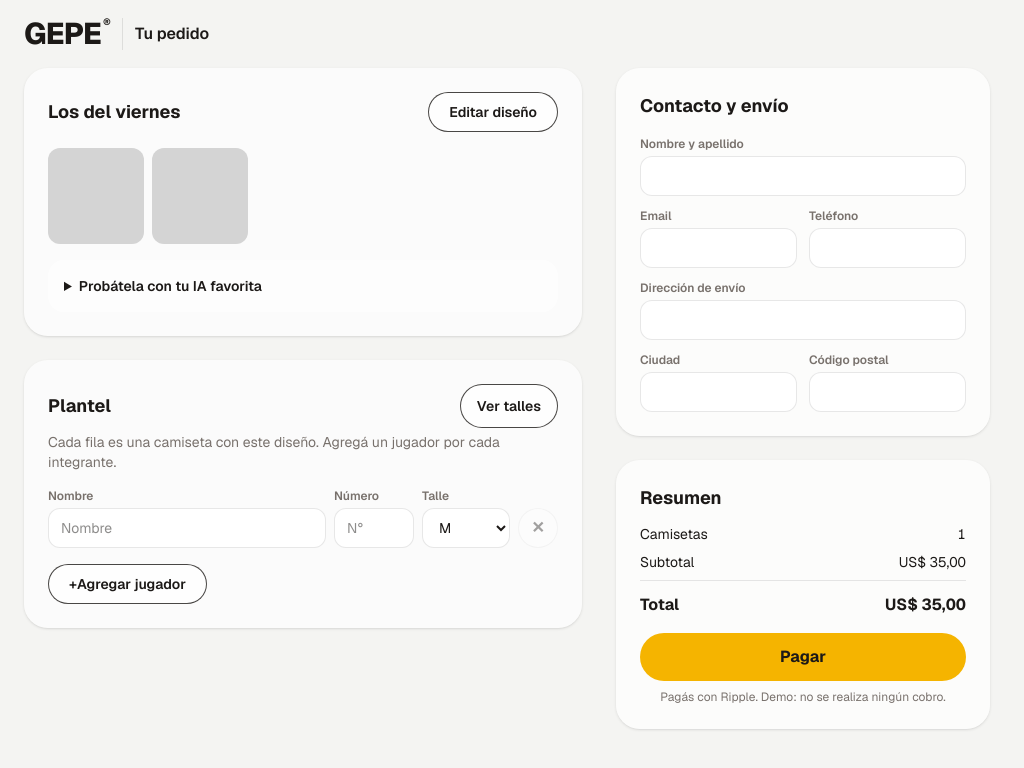
Test case: CheckoutView › does not show errors until the user tries to pay, then shows them and focuses the first one
Check: the text "Ingresá un nombre" is not shown
What coordinates should you click on to do the following:
click the button "Pagar"
I would click on:
 (803, 657)
Its box is x1=640 y1=633 x2=966 y2=681.
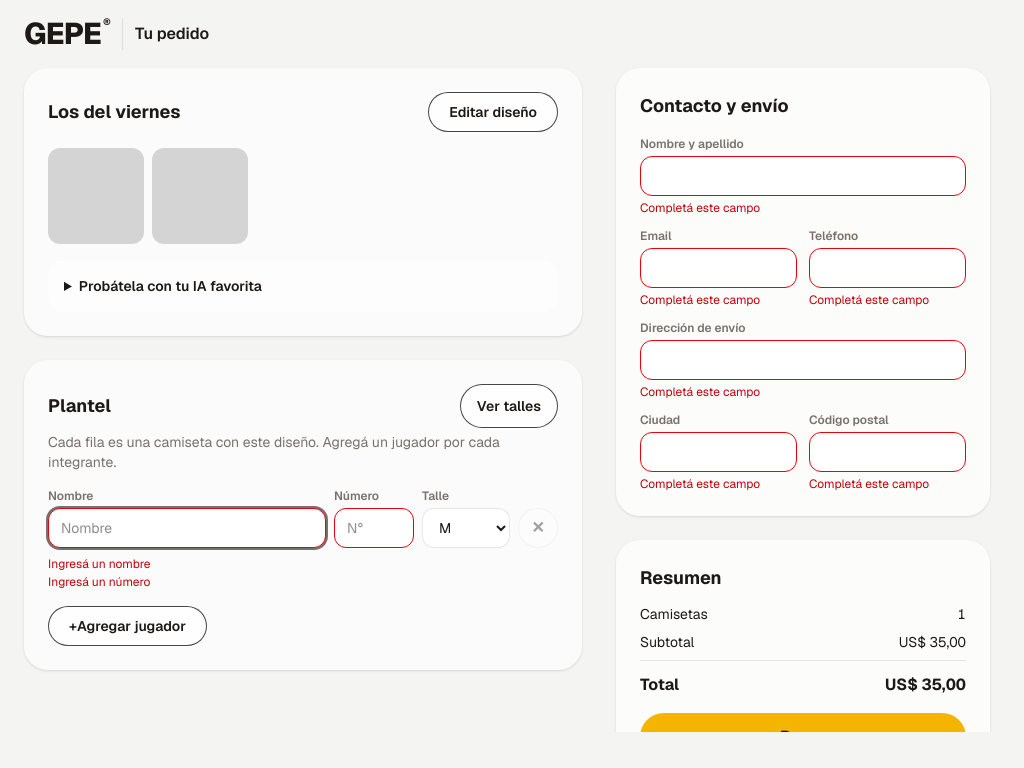
Check: the text "Ingresá un nombre" is shown, box x1=48 y1=556 x2=151 y2=572
Check: the text "Ingresá un número" is shown, box x1=48 y1=574 x2=150 y2=590
Check: the text "Completá este campo" below "Nombre y apellido" is shown, box x1=640 y1=200 x2=760 y2=216
